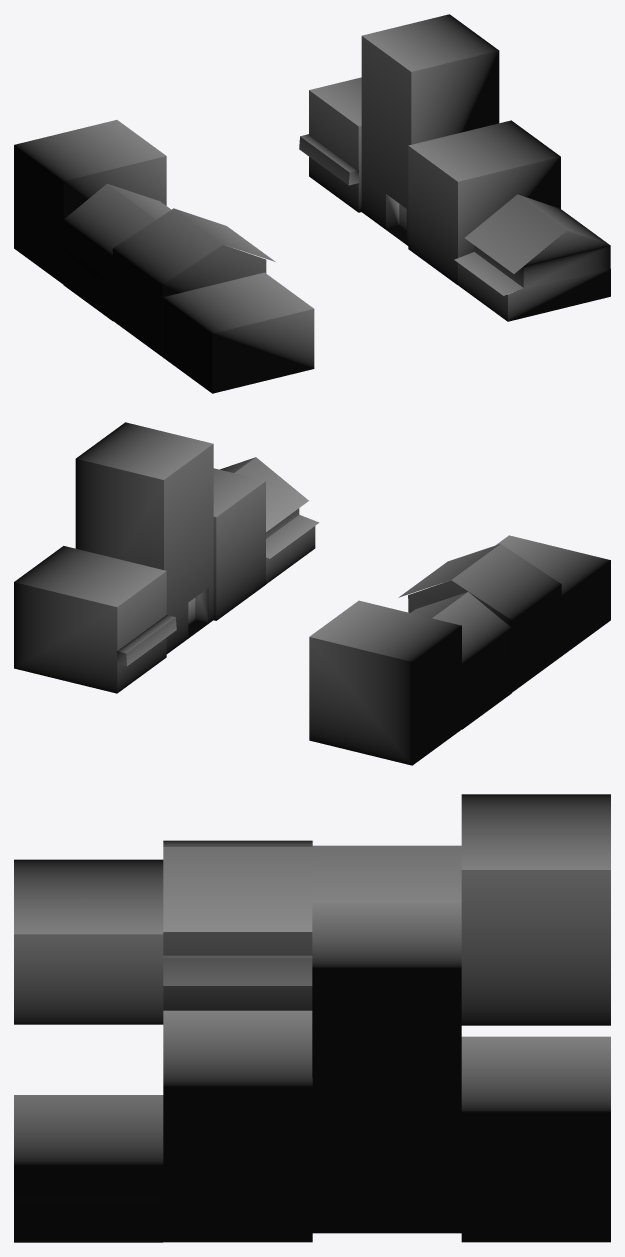
File: K_BILL01.glb
3 renders of one model, top to bottom at view 1: azimuth 30°, elevation 25°; view 2: azimuth 150°, elevation 25°; view 3: azimuth 270°, elevation 25°, orthographic. The views are drawn at different scales.
Parts seen in each view (by area): view 1: d, b, c, a; view 2: a, b, c, d; view 3: a, c, b, d.
Part boxes in pixels (x1=…): d: x1=163, y1=194, x2=610, y2=393; b: x1=63, y1=14, x2=499, y2=320; c: x1=112, y1=120, x2=560, y2=357; a: x1=14, y1=77, x2=361, y2=283; a: x1=14, y1=546, x2=461, y2=765; b: x1=75, y1=422, x2=511, y2=729; c: x1=213, y1=468, x2=561, y2=692; d: x1=220, y1=457, x2=610, y2=656; a: x1=461, y1=794, x2=610, y2=1242; c: x1=163, y1=840, x2=312, y2=1242; b: x1=312, y1=845, x2=461, y2=1233; d: x1=14, y1=859, x2=163, y2=1242.
Bounding box in the file's own units: 116 × 49.09 × 100.
Materials: 4 (4 with a texture image).
